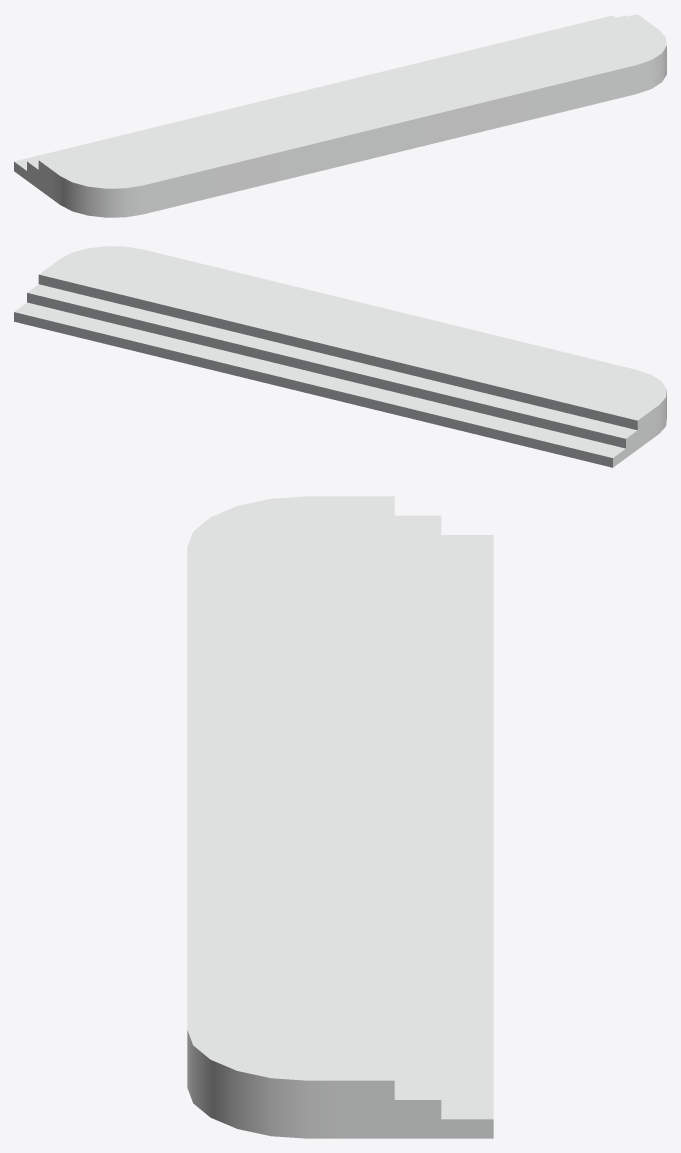
Rendered from Platform.Rounded.002.Stairs.fbx.
The picture shows the model from 3 angles, top to bottom: view 1: azimuth 30°, elevation 25°; view 2: azimuth 150°, elevation 25°; view 3: azimuth 270°, elevation 25°; orthographic projection. The views are drawn at different scales.
Parts seen in each view (by area): view 1: Platform.Rounded.002.Stairs; view 2: Platform.Rounded.002.Stairs; view 3: Platform.Rounded.002.Stairs.
Part boxes in pixels (x1=…): Platform.Rounded.002.Stairs: x1=14, y1=14, x2=666, y2=217; Platform.Rounded.002.Stairs: x1=14, y1=246, x2=666, y2=467; Platform.Rounded.002.Stairs: x1=187, y1=496, x2=493, y2=1138.
Bounding box in the file's own units: 30 × 1.39 × 6.65.
